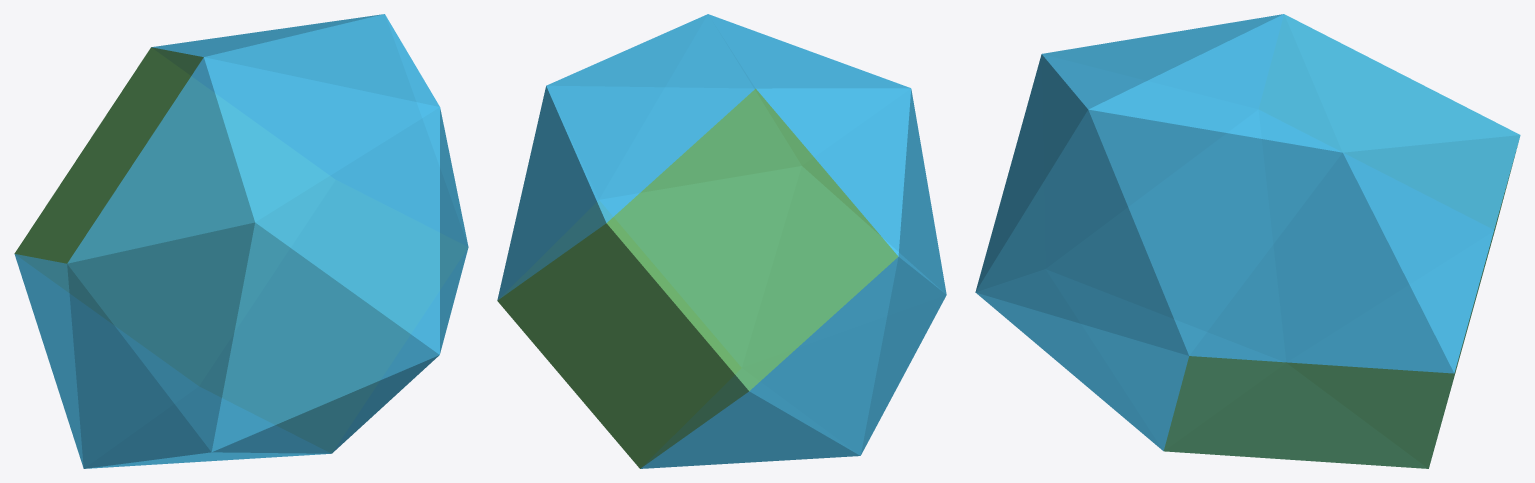
File: j89_hebesphenomegacorona.obj
3 views of the same model, side by side, from view 1: azimuth 30°, elevation 25°; view 2: azimuth 150°, elevation 25°; view 3: azimuth 270°, elevation 25° (orthographic). The views are drawn at different scales.
Bounding box in the file's own units: 1.64 × 1.67 × 1.95.
